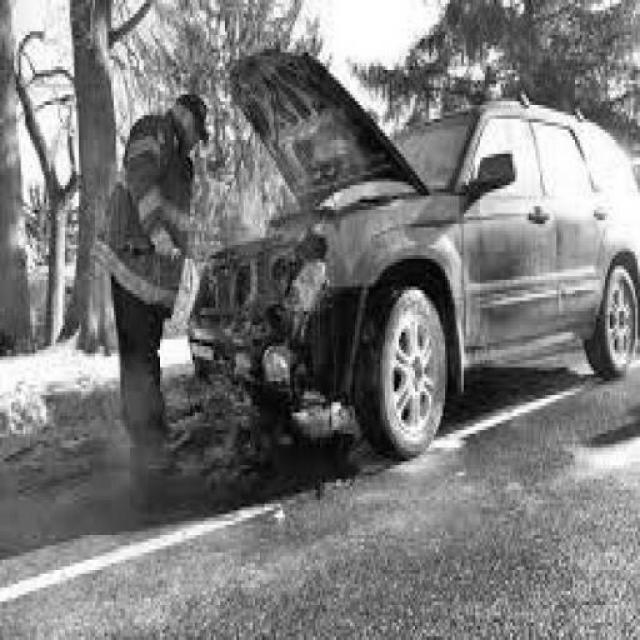crush: (186, 231, 360, 402)
